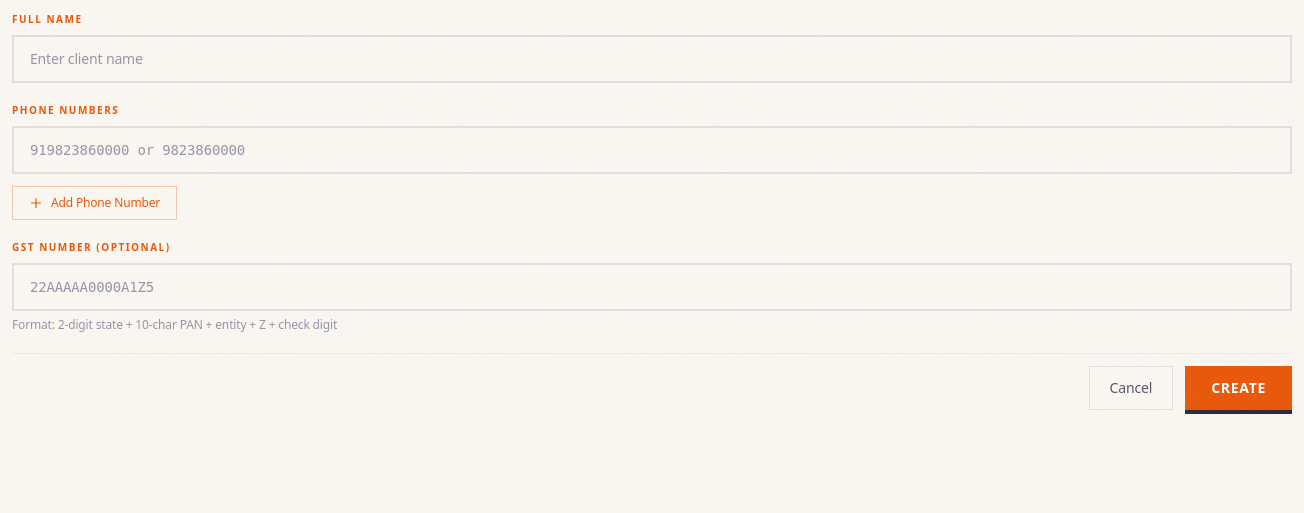
Test: ClientForm › Unit Tests - Form Validation › should detect duplicate phone numbers with and without plus sign
The image size is (1304, 513).
Type "Test User" into the field labelled "Full Name".
click(652, 59); type("Test User")  # box [12,35,1292,83]
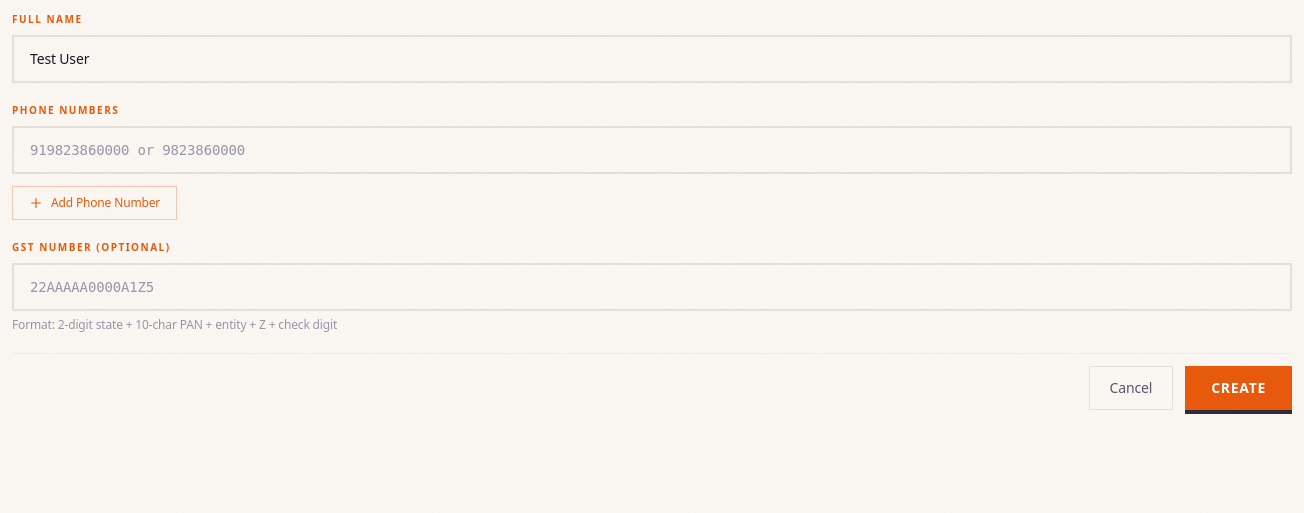
// Add first phone
Type "919823860000" into the field with placeholder "919823860000 or 9823860000".
click(652, 150); type("919823860000")  # box [12,126,1292,174]
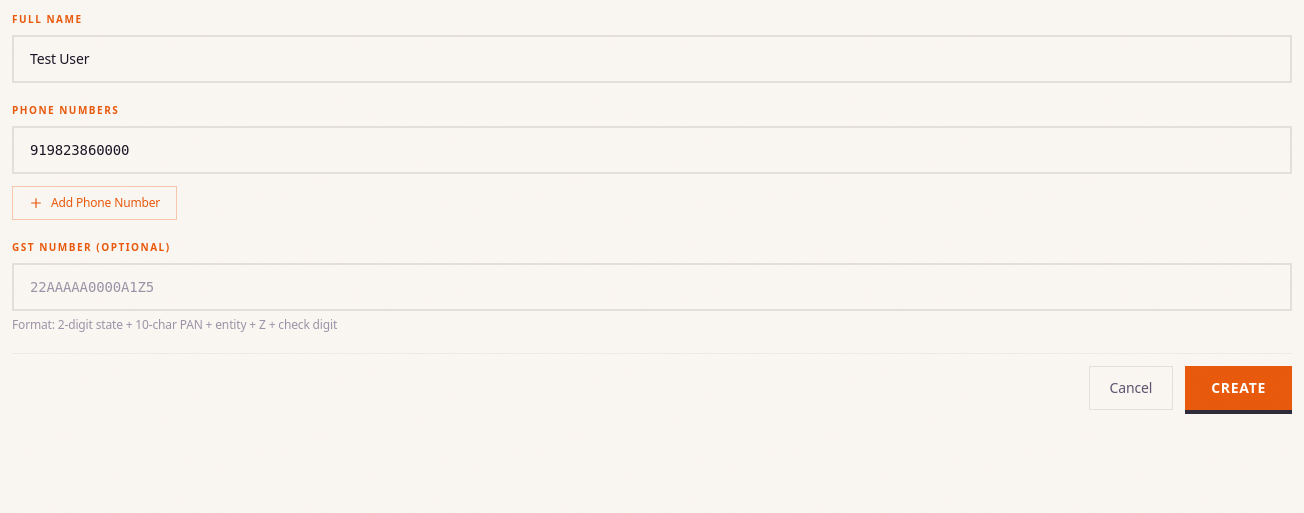
// Add second phone field
Click the button "Add Phone Number".
click(95, 203)  # box [12,186,177,220]
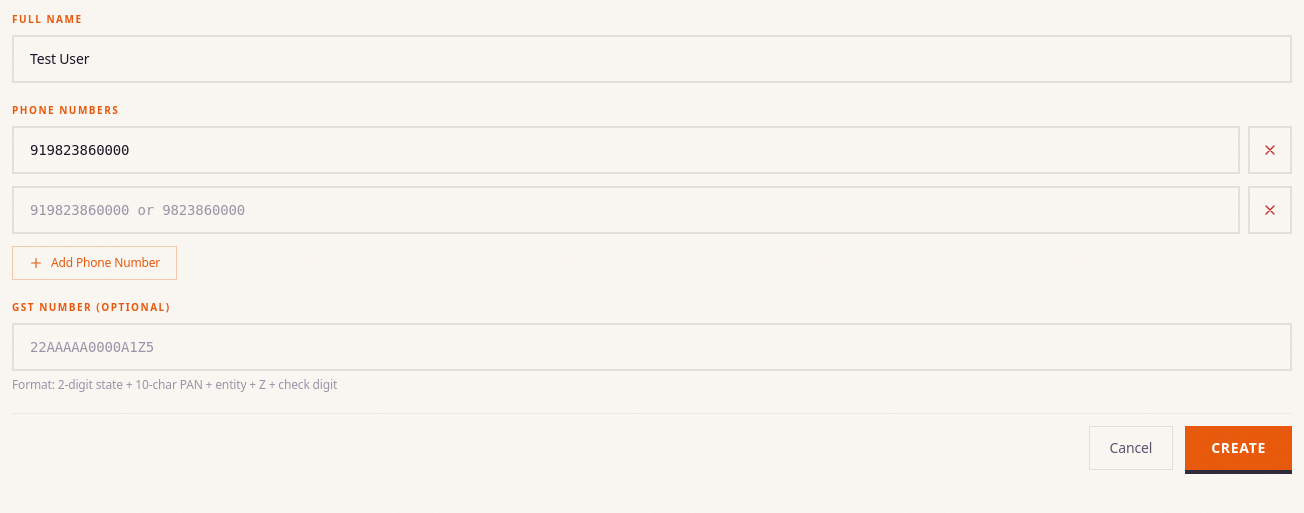
Type "+919823860000" into the field with placeholder "919823860000 or 9823860000".
click(626, 210); type("+919823860000")  # box [12,186,1240,234]
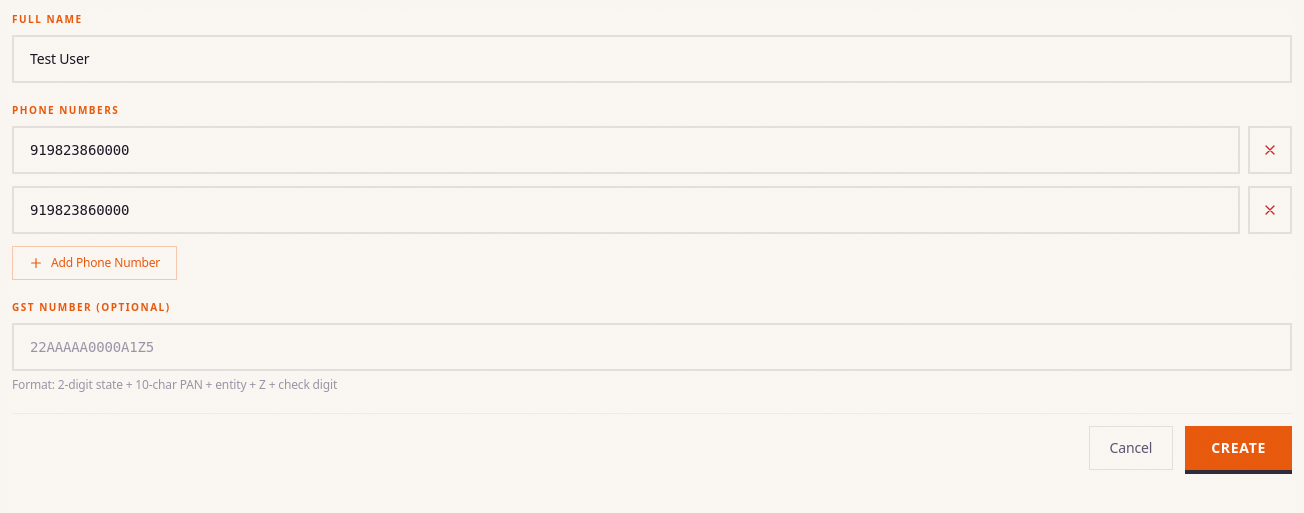
Click the button "Create".
click(1239, 448)  # box [1185,426,1292,470]
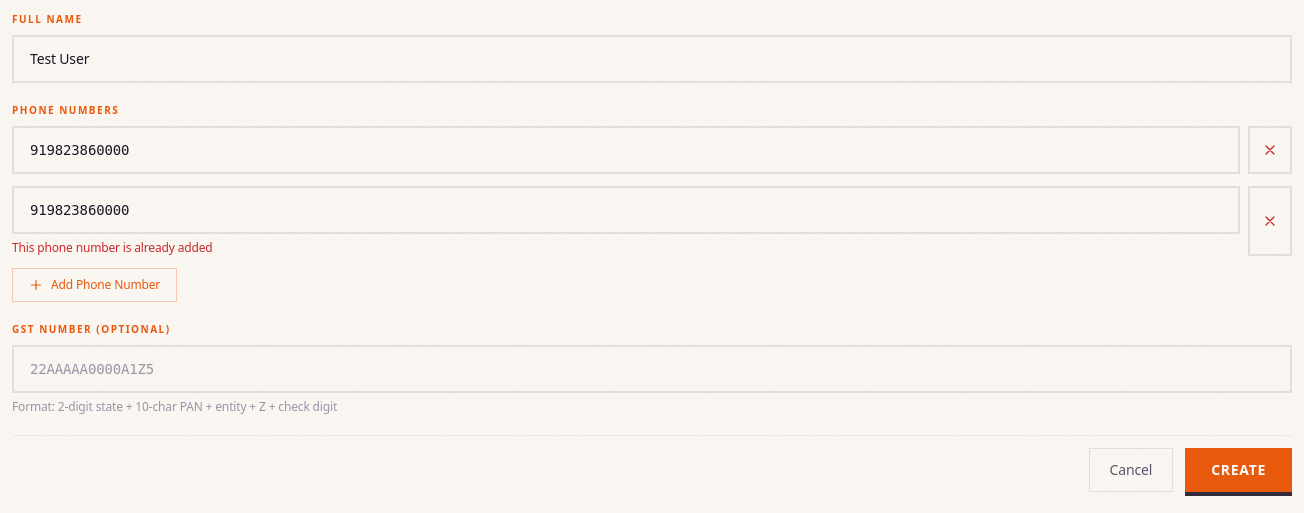
Expected: the text "This phone number is already added" is shown, [12,239,212,256]
